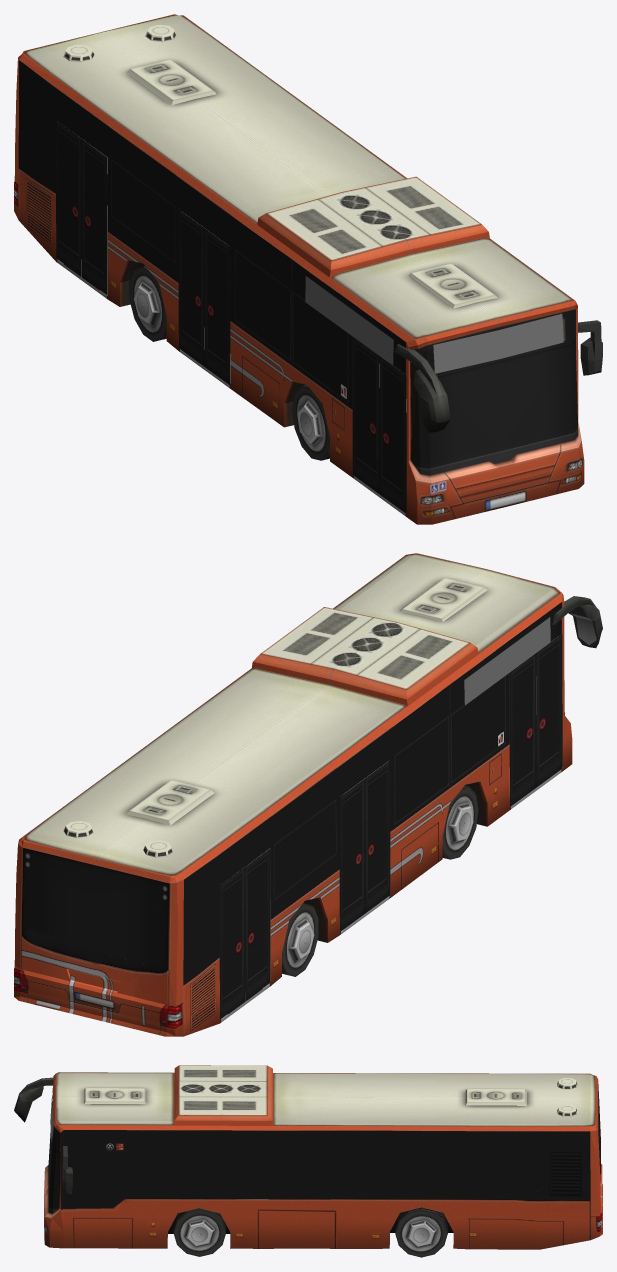
File: red-bus.glb
3 renders of one model, top to bottom at view 1: azimuth 30°, elevation 25°; view 2: azimuth 150°, elevation 25°; view 3: azimuth 270°, elevation 25°, orthographic. The views are drawn at different scales.
Visible parts, largest first — view 1: Object_bus_d.jpg (×2), Object_bus_sign_d.jpg; view 2: Object_bus_d.jpg (×2), Object_bus_sign_d.jpg; view 3: Object_bus_d.jpg (×2).
Part boxes in pixels (x1,y1,x2,y2): Object_bus_d.jpg (×2): (14, 14, 602, 524); Object_bus_sign_d.jpg: (305, 276, 563, 373); Object_bus_d.jpg (×2): (14, 553, 602, 1036); Object_bus_sign_d.jpg: (464, 617, 550, 705); Object_bus_d.jpg (×2): (14, 1065, 602, 1257).
Bounding box in the file's own units: 0.00695 × 0.00671 × 0.025.
3 materials, 3 textured.
